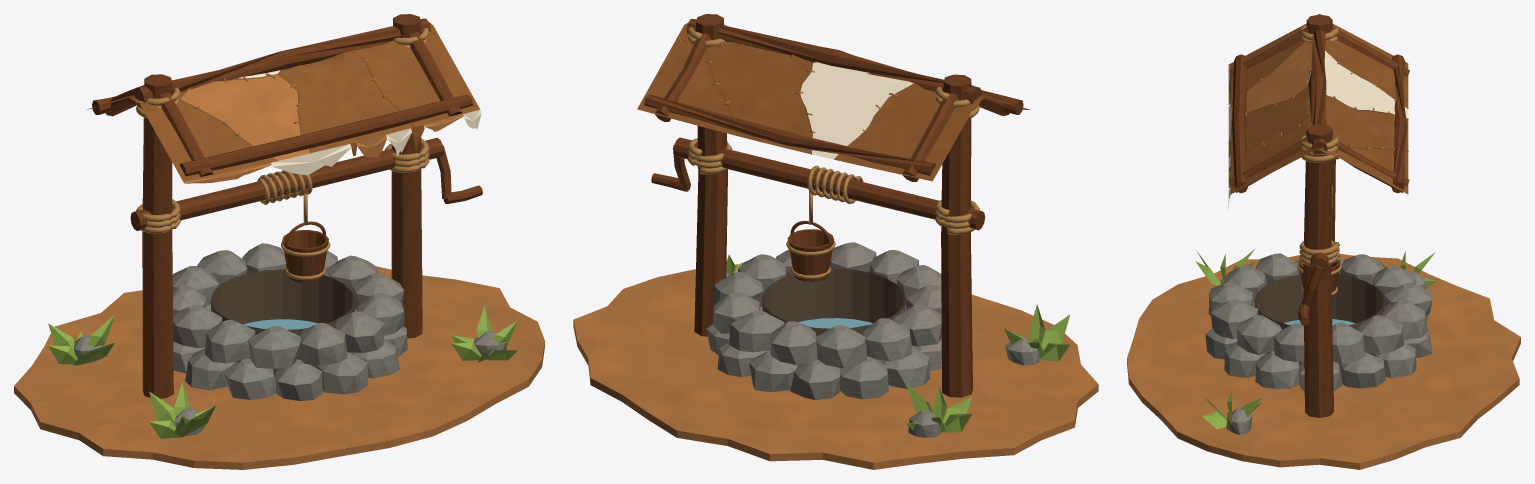
File: tribal_well.glb
3 renders of one model, left to right at view 1: azimuth 30°, elevation 25°; view 2: azimuth 150°, elevation 25°; view 3: azimuth 270°, elevation 25°, orthographic. The views are drawn at different scales.
Visible parts, largest first — view 1: Sandy island, Well masonry stones, Well patchwork hide roof irregular hide patch (×2), Well timber upright, Dark inner well shaft, Tropical leaves, Well roof eave beam, Winch wooden axle, Well roof ridge, Well roof ragged edge ragged lobe (×2), Well gable roof rafter, Hollow wooden bucket (+5 smaller); view 2: Sandy island, Well masonry stones, Well patchwork hide roof irregular hide patch (×2), Well timber upright, Dark inner well shaft, Winch wooden axle, Well roof eave beam, Well roof ridge, Tropical leaves, Well gable roof rafter, Hollow wooden bucket, Well post axle binding (+4 smaller); view 3: Sandy island, Well masonry stones, Well patchwork hide roof irregular hide patch (×3), Well timber upright, Dark inner well shaft, Well roof eave beam, Well gable roof rafter, Well roof ridge, Tropical leaves, Well post roof binding, Ground rock, Well patchwork hide roof uneven seam cord (+2 smaller).
Boxes of the visible parts, x1=… form: Sandy island: x1=14, y1=266, x2=544, y2=469; Well masonry stones: x1=172, y1=243, x2=407, y2=400; Well patchwork hide roof irregular hide patch (×2): x1=87, y1=22, x2=480, y2=181; Well timber upright: x1=142, y1=14, x2=422, y2=398; Dark inner well shaft: x1=211, y1=269, x2=354, y2=376; Tropical leaves: x1=48, y1=305, x2=517, y2=438; Well roof eave beam: x1=92, y1=94, x2=472, y2=176; Winch wooden axle: x1=130, y1=137, x2=443, y2=230; Well roof ridge: x1=134, y1=18, x2=430, y2=106; Well roof ragged edge ragged lobe (×2): x1=183, y1=109, x2=481, y2=183; Well gable roof rafter: x1=105, y1=32, x2=461, y2=176; Hollow wooden bucket: x1=282, y1=230, x2=328, y2=282; Sandy island: x1=573, y1=264, x2=1098, y2=469; Well masonry stones: x1=706, y1=242, x2=941, y2=400; Well patchwork hide roof irregular hide patch (×2): x1=637, y1=23, x2=1027, y2=181; Well timber upright: x1=694, y1=14, x2=972, y2=397; Dark inner well shaft: x1=762, y1=268, x2=905, y2=368; Winch wooden axle: x1=673, y1=137, x2=985, y2=230; Well roof eave beam: x1=644, y1=72, x2=1023, y2=175; Well roof ridge: x1=686, y1=19, x2=981, y2=105; Tropical leaves: x1=696, y1=249, x2=1070, y2=432; Well gable roof rafter: x1=655, y1=33, x2=1009, y2=181; Hollow wooden bucket: x1=787, y1=229, x2=834, y2=281; Well post axle binding: x1=687, y1=138, x2=979, y2=234; Sandy island: x1=1127, y1=253, x2=1520, y2=469; Well masonry stones: x1=1205, y1=253, x2=1432, y2=391; Well patchwork hide roof irregular hide patch (×3): x1=1230, y1=23, x2=1408, y2=194; Well timber upright: x1=1303, y1=14, x2=1335, y2=417; Dark inner well shaft: x1=1254, y1=274, x2=1384, y2=367; Well roof eave beam: x1=1232, y1=54, x2=1407, y2=193; Well gable roof rafter: x1=1229, y1=27, x2=1409, y2=192; Well roof ridge: x1=1308, y1=14, x2=1327, y2=156; Tropical leaves: x1=1195, y1=248, x2=1435, y2=429; Well post roof binding: x1=1299, y1=25, x2=1339, y2=162; Ground rock: x1=1221, y1=271, x2=1425, y2=434; Well patchwork hide roof uneven seam cord: x1=1230, y1=39, x2=1408, y2=166.
Bounding box in the file's own units: 3.79 × 2.41 × 2.97.
9 materials, 5 textured.
